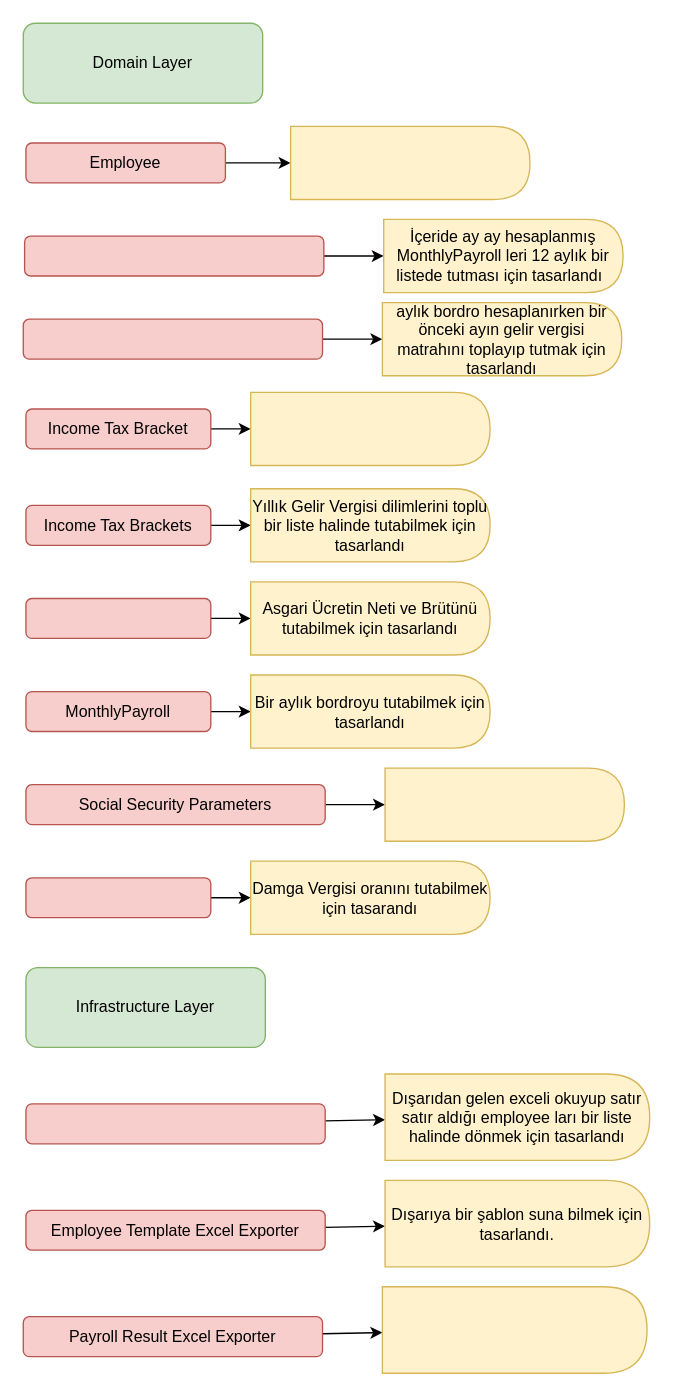
This 673x1397 diagram has some shape labels left out. Each missing label, with the box of its shape:
Employee Annual Payroll: (23, 235, 324, 276)
Employee Cumulative Tax State: (22, 318, 323, 359)
Employee Excel importer: (25, 1103, 325, 1144)
İçeri veri almak için oluşturulan şablondaki verileri tutma için oluşturuldu.: (289, 125, 530, 200)
İşçi / İşveren SGK kesinti oranlarını tutabilmek için tasarlandı: (384, 767, 624, 841)
Minimum Wage: (25, 597, 211, 638)
Stamp Tax: (25, 876, 211, 918)
Verilen bordro sonuçlarını excele yazıp dışarıya vermek için tasarlandı.: (381, 1285, 647, 1373)
Yıllık Gelir vergisi dilimi tutabilmek için tasarlandı: (249, 391, 490, 466)
